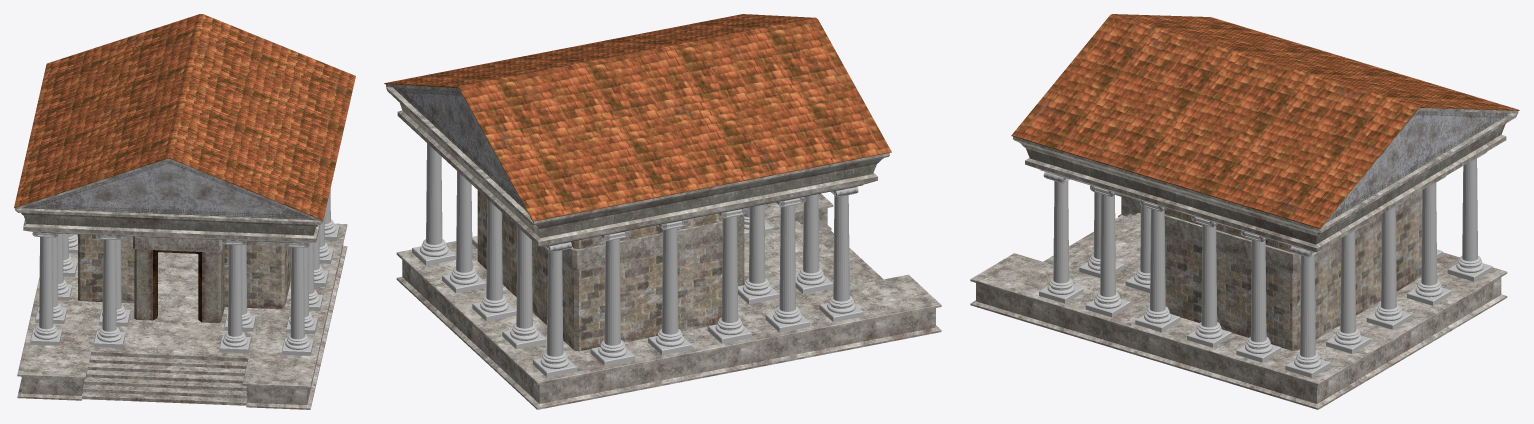
File: Main House.fbx
3 renders of one model, left to right at view 1: azimuth 30°, elevation 25°; view 2: azimuth 150°, elevation 25°; view 3: azimuth 270°, elevation 25°, orthographic. The views are drawn at different scales.
Visible parts, largest first — view 1: Main_Temple; view 2: Main_Temple; view 3: Main_Temple.
Boxes of the visible parts, x1,y1,x2,y2 form: Main_Temple: [14, 14, 355, 409]; Main_Temple: [384, 14, 941, 409]; Main_Temple: [970, 14, 1519, 409].
Size of the model in its own units: 42.02 by 21.93 by 43.93.
